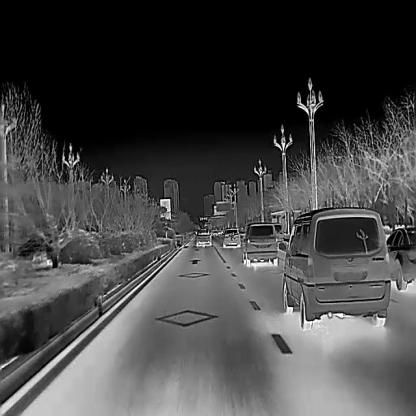car: (278, 206, 390, 330), (386, 225, 416, 289), (242, 221, 277, 265), (222, 227, 240, 246), (196, 228, 210, 245)
